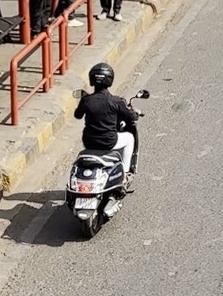BikeWithRider: (58, 58, 153, 240)
Helmet: (84, 59, 118, 94)
